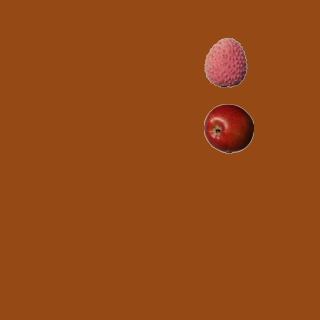Apple Braeburn: (203, 103, 253, 153)
Lychee: (200, 37, 250, 87)
